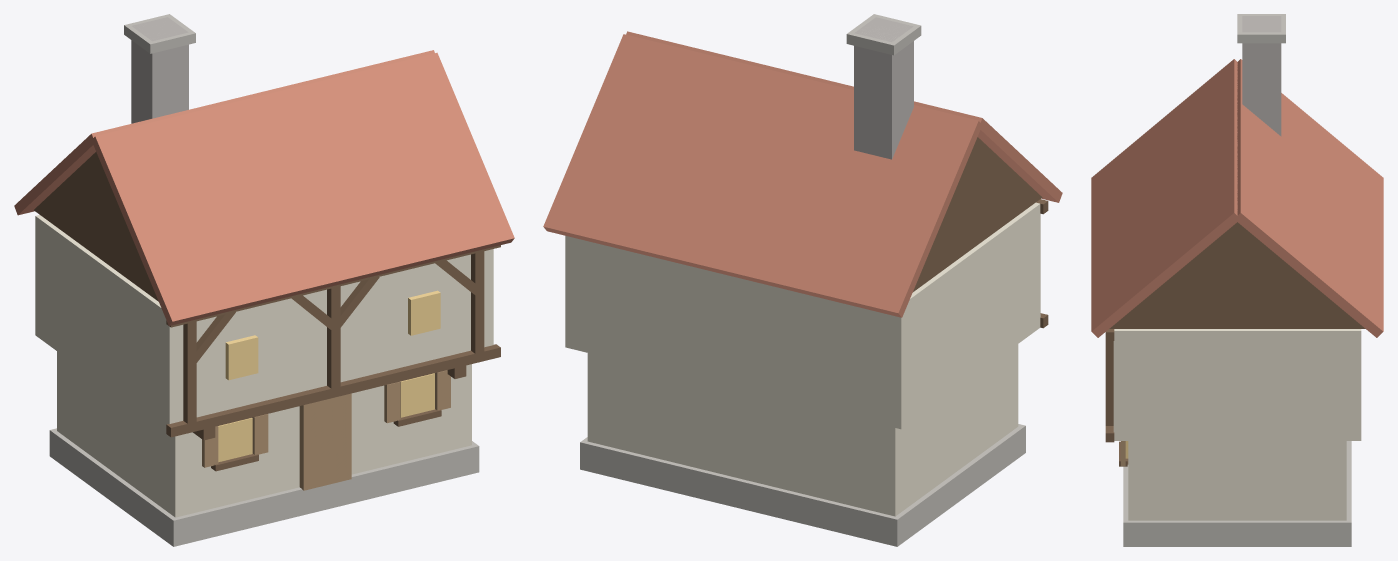
Rendered from cottage_c.glb.
3 renders of one model, left to right at view 1: azimuth 30°, elevation 25°; view 2: azimuth 150°, elevation 25°; view 3: azimuth 270°, elevation 25°, orthographic. The views are drawn at different scales.
Parts seen in each view (by area): view 1: Cube.014, Cube.002, Cube.001, Cube, hastial, Cube.016, Cube.005, Cube.018, Cube.015, Cube.007, Cube.008, Cube.009 (+11 smaller); view 2: Cube.015, Cube.002, Cube.001, Cube, hastial, Cube.016, Cube.014, Cube.017; view 3: Cube.002, Cube.014, Cube.015, Cube.001, hastial.001, Cube, Cube.016, Cube.017, Cube.008.
Part boxes in pixels (x1=…): Cube.014: x1=91, y1=52, x2=514, y2=325; Cube.002: x1=35, y1=215, x2=493, y2=430; Cube.001: x1=57, y1=351, x2=471, y2=517; Cube: x1=49, y1=428, x2=479, y2=546; hastial: x1=34, y1=152, x2=158, y2=301; Cube.016: x1=131, y1=17, x2=188, y2=123; Cube.005: x1=166, y1=344, x2=500, y2=437; Cube.018: x1=299, y1=393, x2=351, y2=490; Cube.015: x1=14, y1=50, x2=434, y2=215; Cube.007: x1=183, y1=321, x2=196, y2=423; Cube.008: x1=471, y1=249, x2=484, y2=353; Cube.009: x1=327, y1=285, x2=340, y2=391; Cube.015: x1=543, y1=34, x2=982, y2=317; Cube.002: x1=565, y1=202, x2=1040, y2=429; Cube.001: x1=587, y1=344, x2=1018, y2=516; Cube: x1=580, y1=424, x2=1025, y2=546; hastial: x1=913, y1=137, x2=1042, y2=291; Cube.016: x1=854, y1=17, x2=913, y2=159; Cube.014: x1=626, y1=31, x2=1062, y2=202; Cube.017: x1=846, y1=14, x2=921, y2=55; Cube.002: x1=1113, y1=329, x2=1361, y2=440; Cube.014: x1=1091, y1=59, x2=1240, y2=337; Cube.015: x1=1235, y1=59, x2=1383, y2=337; Cube.001: x1=1128, y1=441, x2=1346, y2=520; hastial.001: x1=1109, y1=222, x2=1365, y2=328; Cube: x1=1123, y1=441, x2=1351, y2=546; Cube.016: x1=1242, y1=16, x2=1281, y2=136; Cube.017: x1=1237, y1=14, x2=1285, y2=43; Cube.008: x1=1105, y1=341, x2=1113, y2=425.
Size of the model in its own units: 3 by 3.75 by 2.4.
